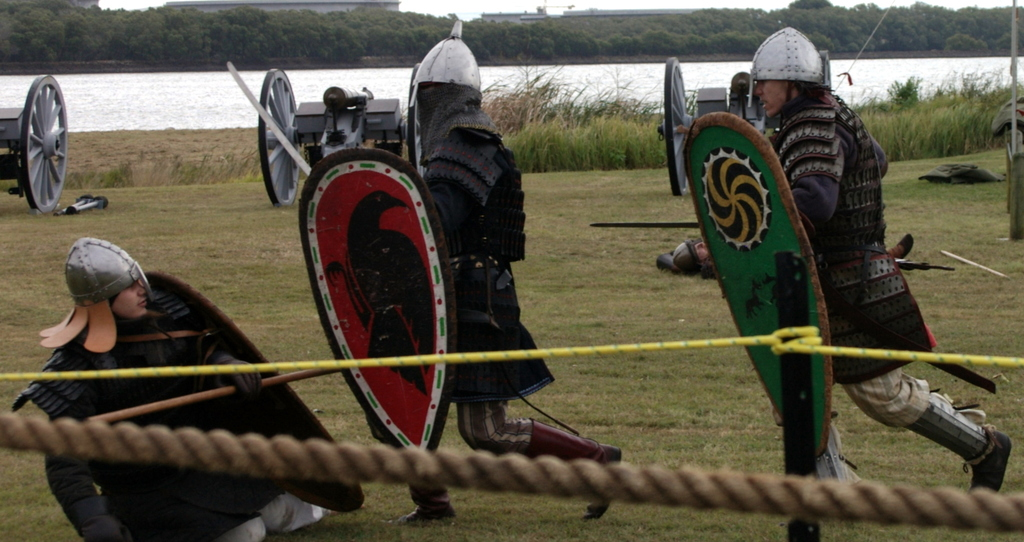Person: (371, 23, 624, 524), (749, 23, 1010, 490), (11, 232, 319, 542)
